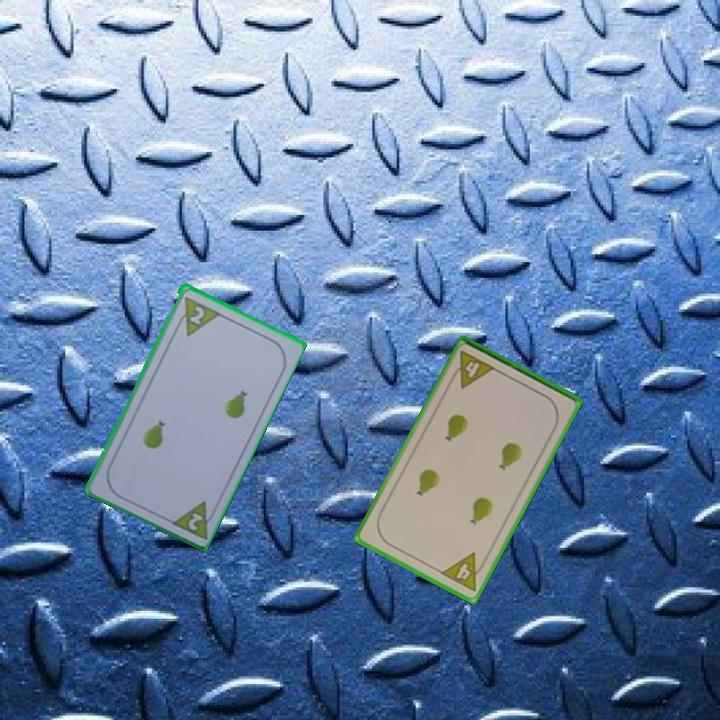2p: (166, 497, 220, 542), (171, 292, 221, 338)
4p: (437, 549, 490, 594), (447, 347, 498, 391)
